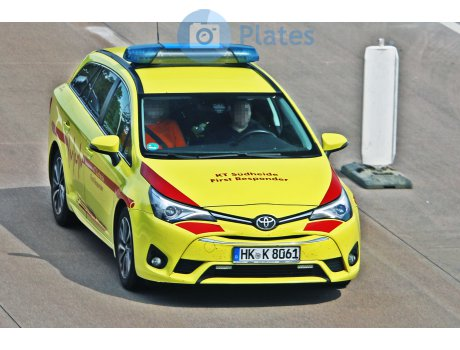License Plates: (234, 246, 300, 261)
